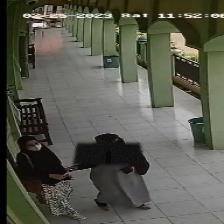Cadar_Niqab: (73, 132, 144, 164)
